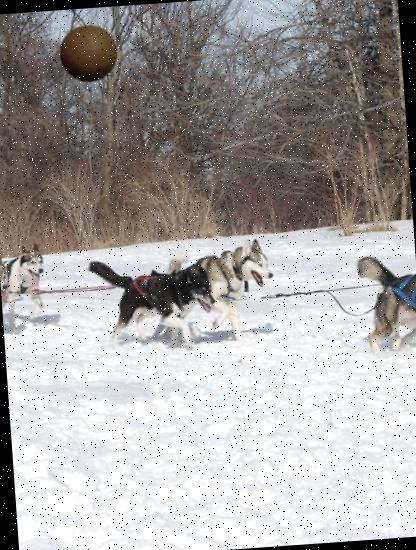Orange: (56, 22, 119, 85)
